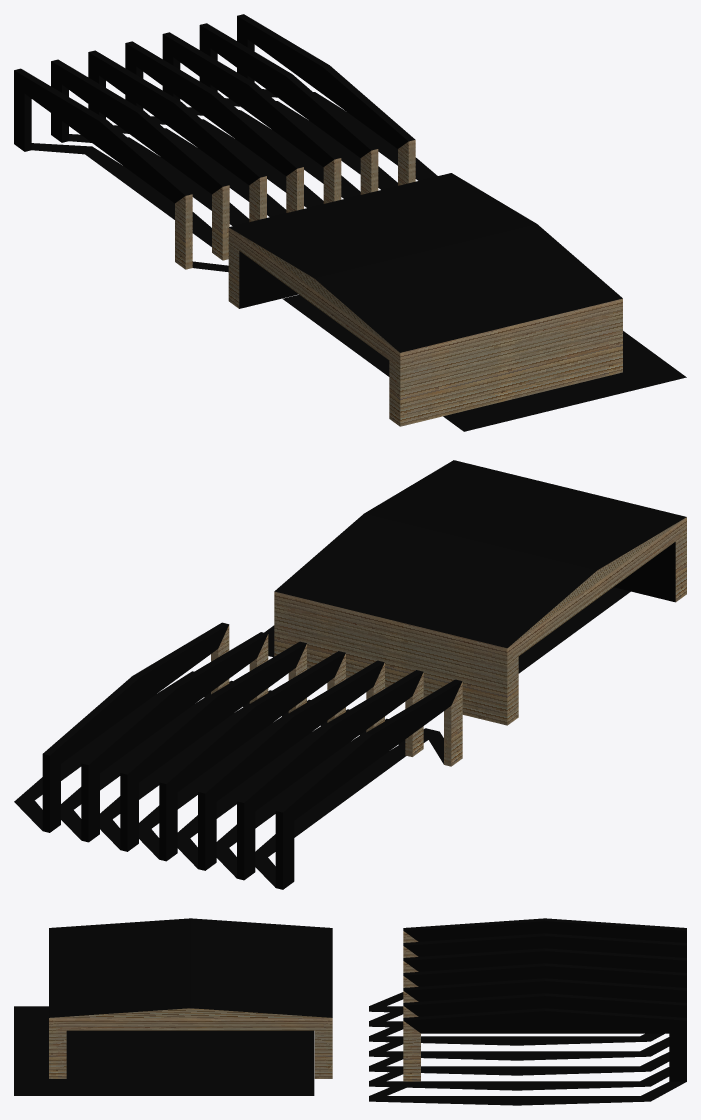
File: hangar2.glb
3 views of the same model, one above another, from view 1: azimuth 30°, elevation 25°; view 2: azimuth 150°, elevation 25°; view 3: azimuth 270°, elevation 25° (orthographic). The views are drawn at different scales.
Visible parts, largest first — view 1: Hangar2, Hangar1; view 2: Hangar2, Hangar1; view 3: Hangar2, Hangar1.
Boxes of the visible parts, x1=… form: Hangar2: x1=228, y1=173, x2=686, y2=431; Hangar1: x1=14, y1=14, x2=437, y2=272; Hangar2: x1=264, y1=460, x2=686, y2=725; Hangar1: x1=14, y1=622, x2=462, y2=889; Hangar2: x1=14, y1=918, x2=332, y2=1095; Hangar1: x1=369, y1=918, x2=686, y2=1105.
Size of the model in its own units: 77.81 by 22 by 190.
Materials: 3 (1 with a texture image).
